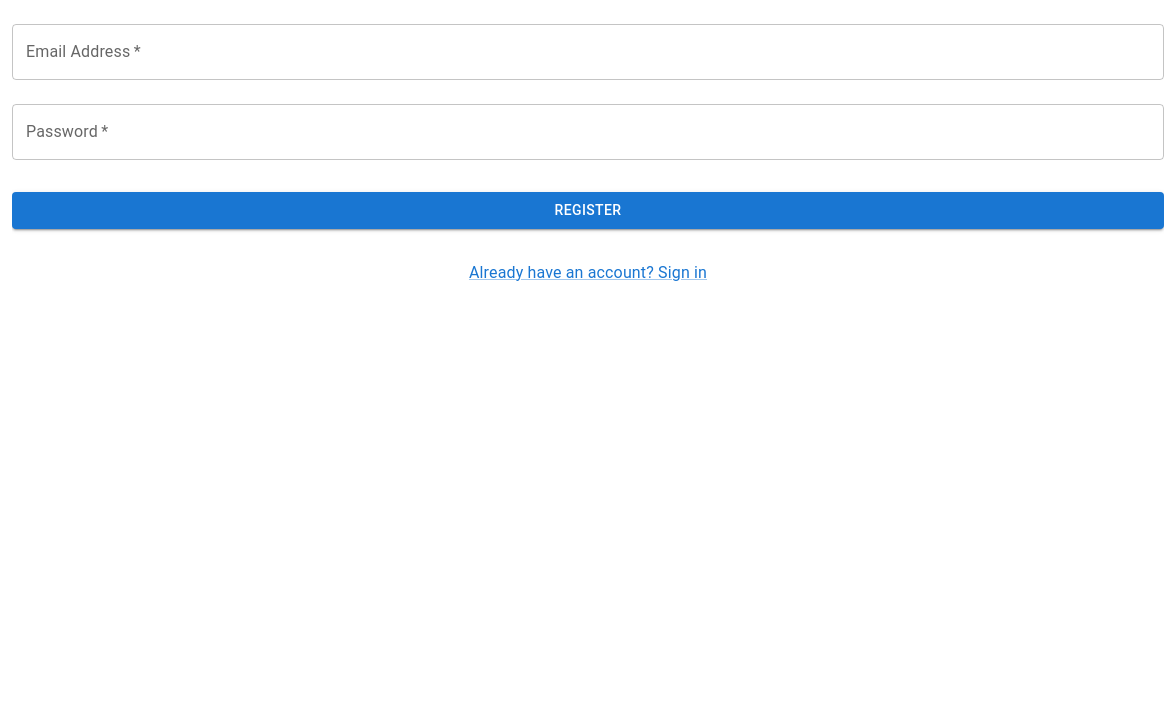
Test: RegisterForm › submits form with valid inputs
Step 1. Type "test@example.com" into the field labelled "Email Address *" → (588, 52), box left=12, top=24, right=1164, bottom=80
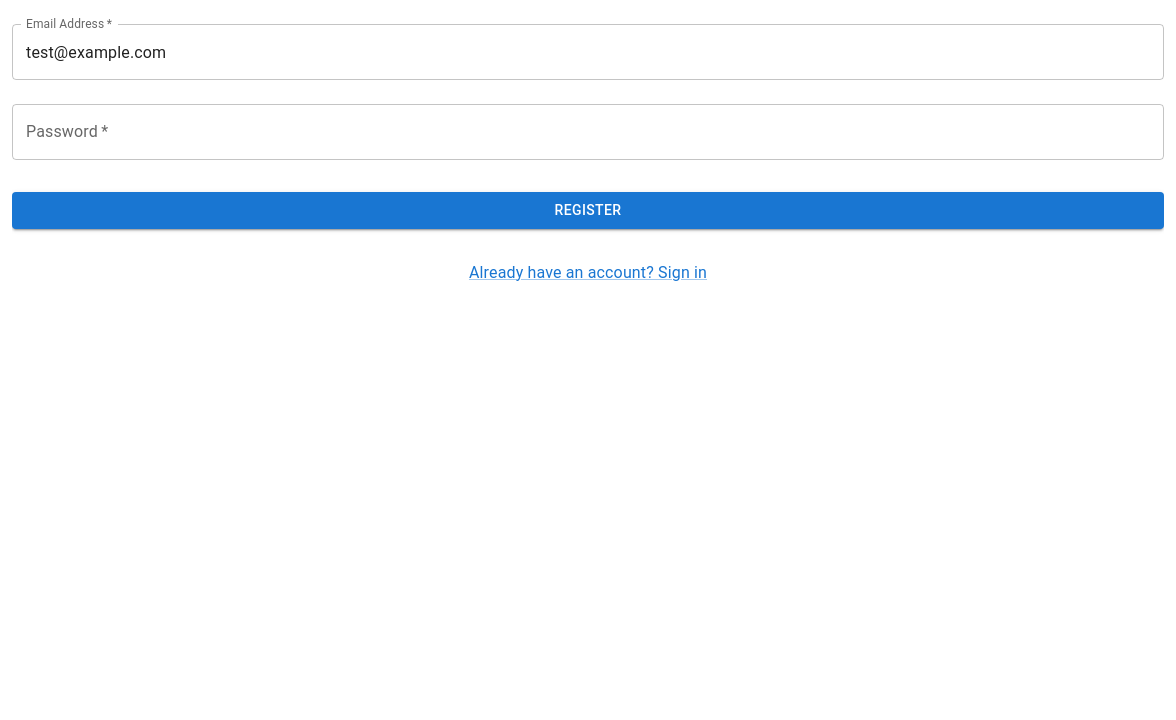
Step 2. Type "ValidPassword123!" into the password field labelled "Password *" → (588, 132), box left=12, top=104, right=1164, bottom=160
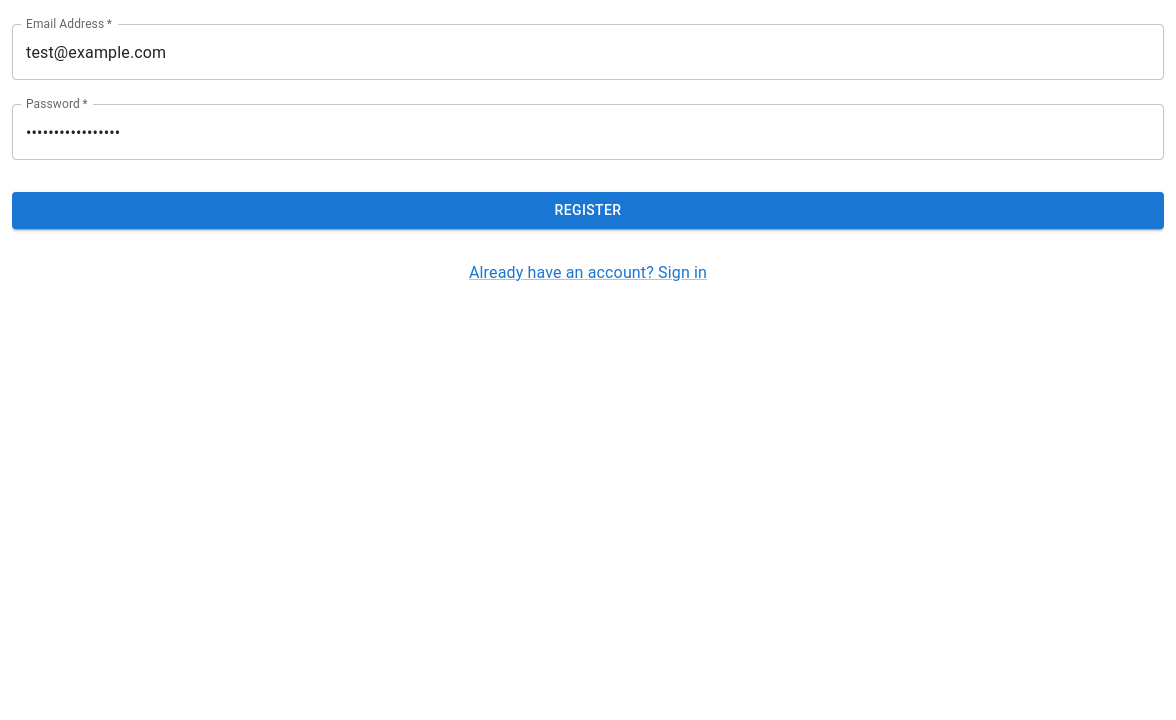
Step 3. Click the button "Register" → (588, 210), box left=12, top=192, right=1164, bottom=228
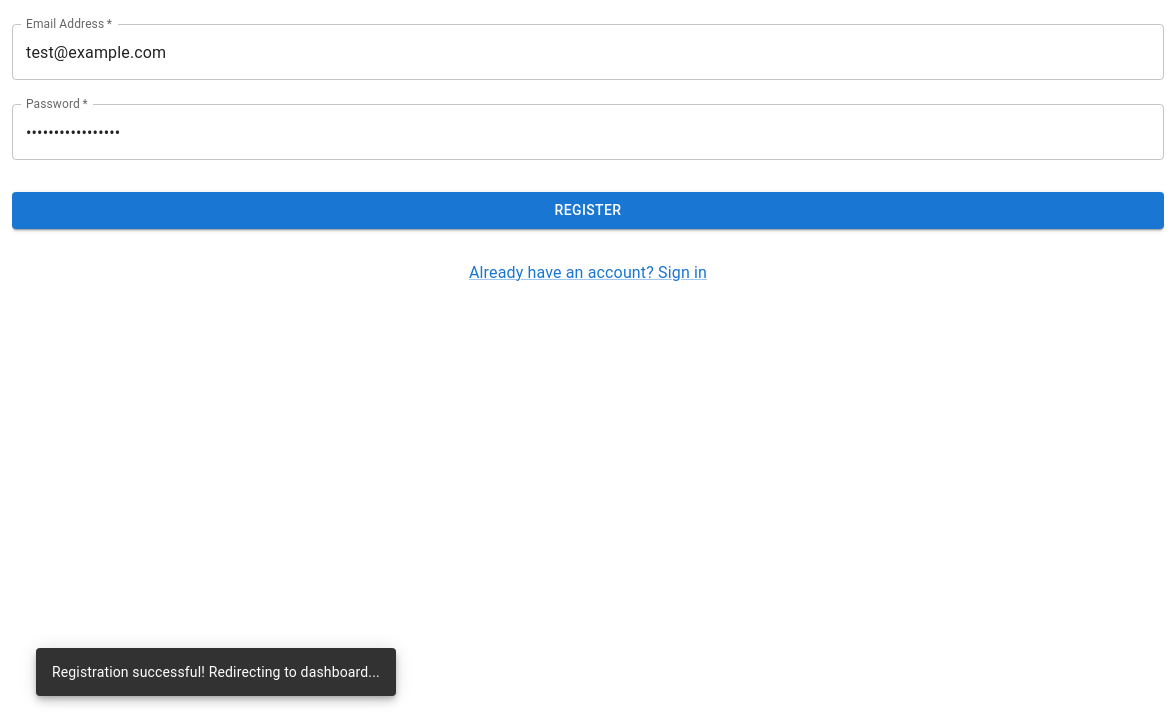
expect the text "Registration successful! Redirecting to dashboard..." is shown: met, box left=52, top=664, right=380, bottom=680
